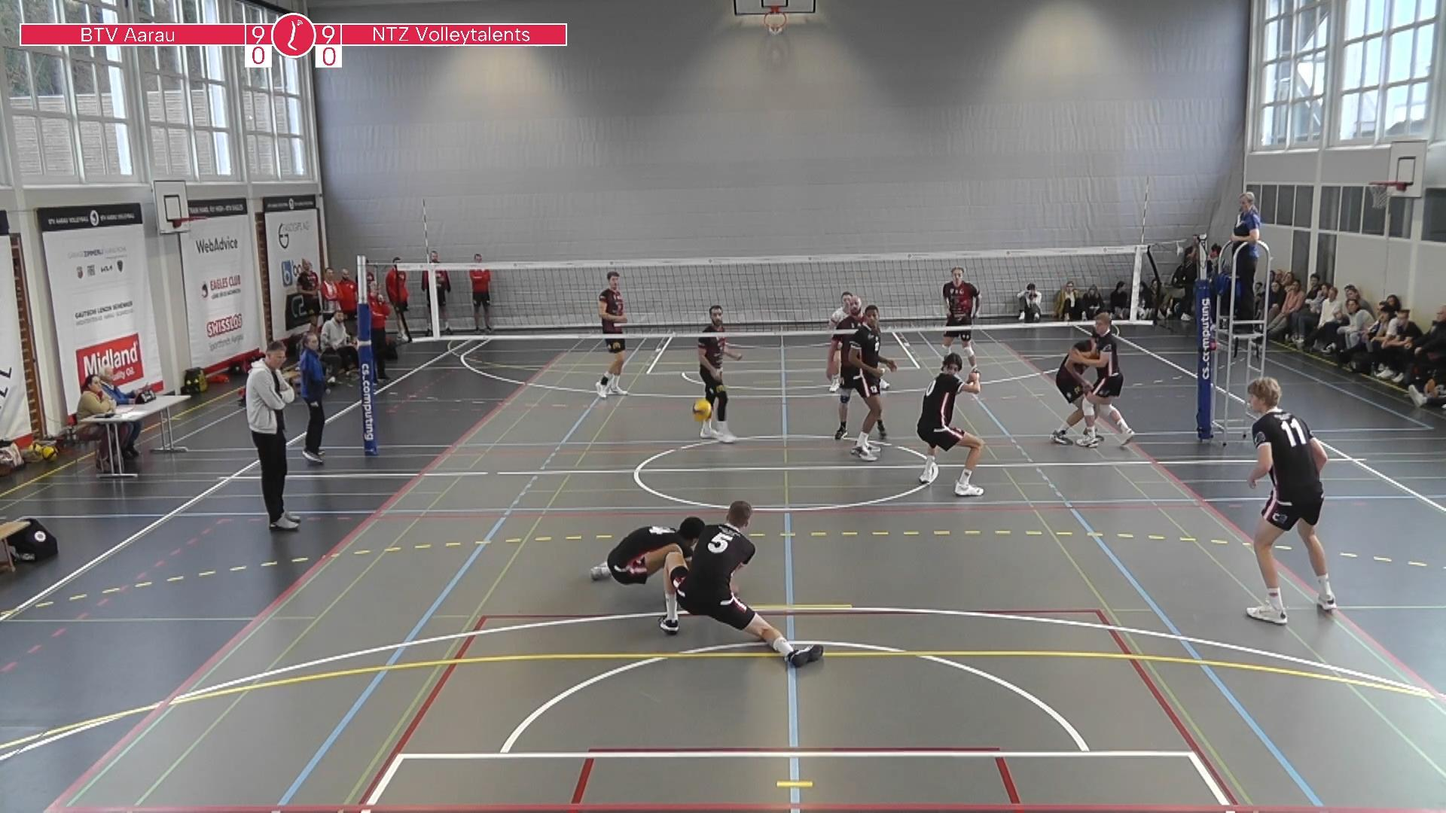difesa: (590, 497, 825, 670)
